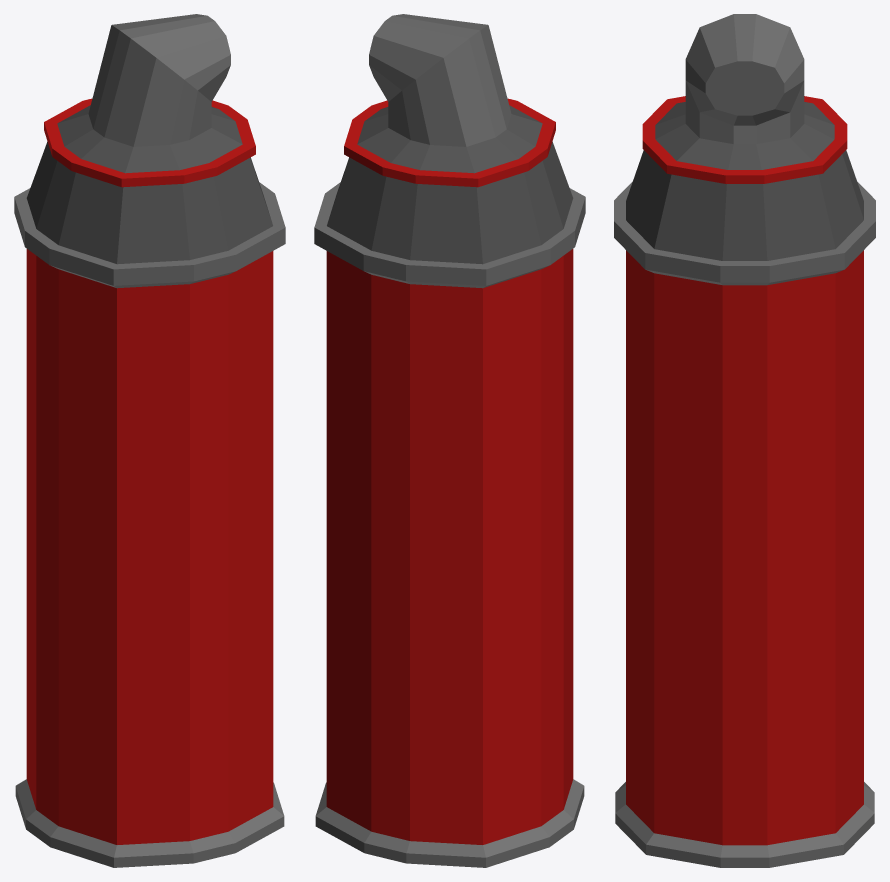
3 renders of one model, left to right at view 1: azimuth 30°, elevation 25°; view 2: azimuth 150°, elevation 25°; view 3: azimuth 270°, elevation 25°, orthographic.
Visible parts, largest first — view 1: F-30; view 2: F-30; view 3: F-30.
Part boxes in pixels (left/top/right/bottom): F-30: left=14, top=14, right=285, bottom=867; F-30: left=314, top=14, right=585, bottom=867; F-30: left=614, top=14, right=875, bottom=867.
Bounding box in the file's own units: 26.68 × 88.44 × 26.68.
